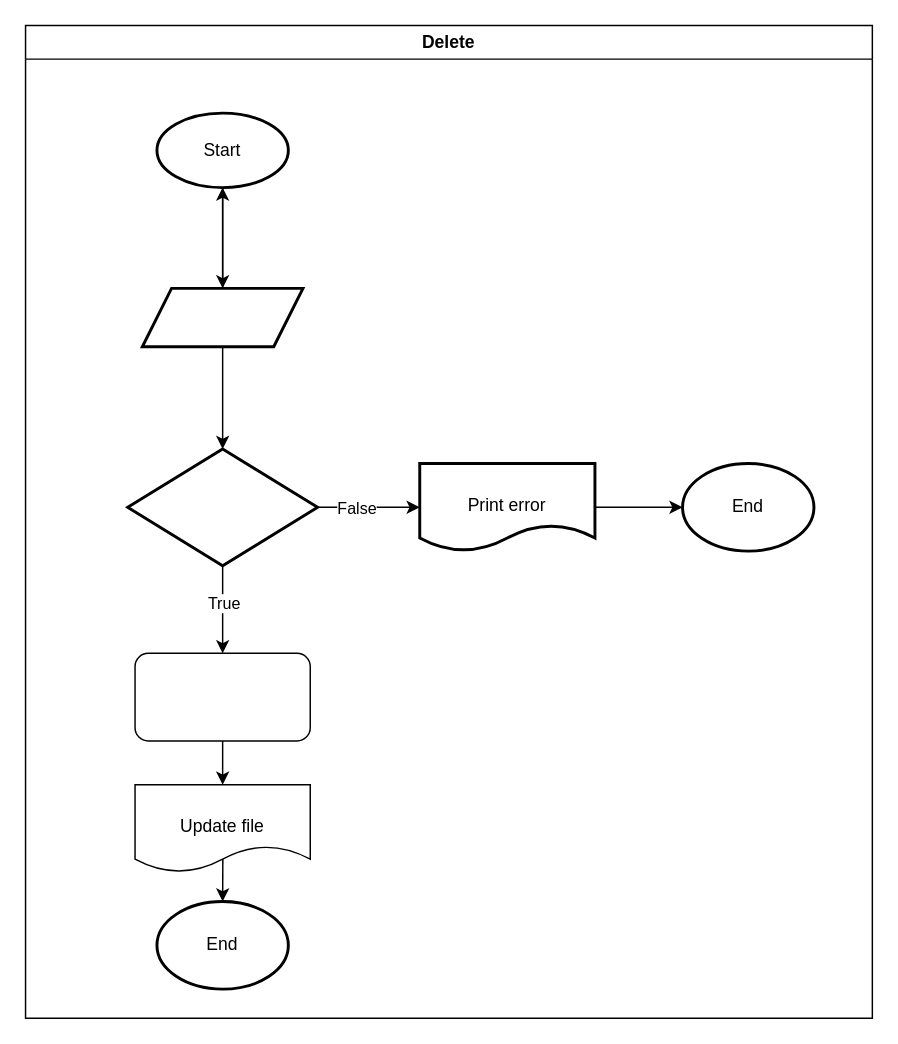
This 898x1044 diagram has some shape labels left out. Each missing label, with the box of its shape:
Copy all data except found data: (134, 652, 310, 741)
Find data?: (126, 447, 318, 566)
Input Condition: (140, 286, 304, 347)
